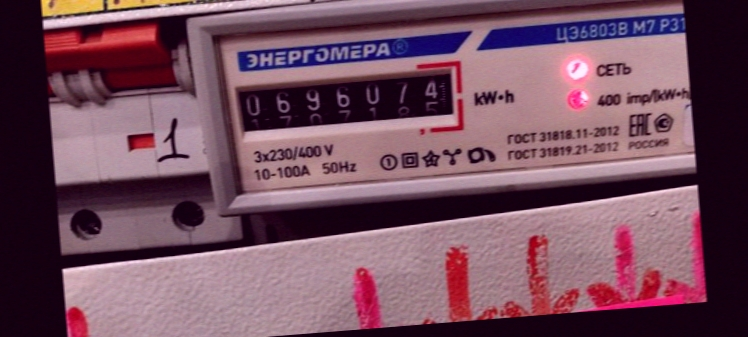0: (241, 91, 262, 116), (363, 79, 381, 106)
4: (421, 75, 438, 98)
5: (423, 100, 441, 116)
6: (334, 82, 353, 109), (273, 88, 292, 114)
7: (393, 78, 412, 104)
9: (303, 85, 321, 112)
screen: (224, 56, 468, 143)
